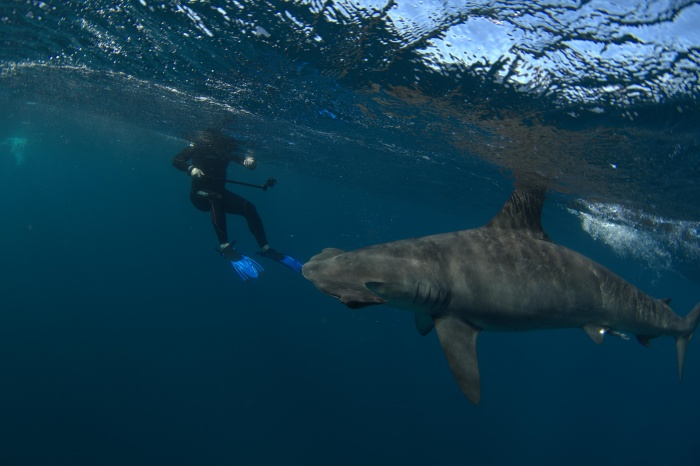Hammer: (279, 154, 700, 419)
